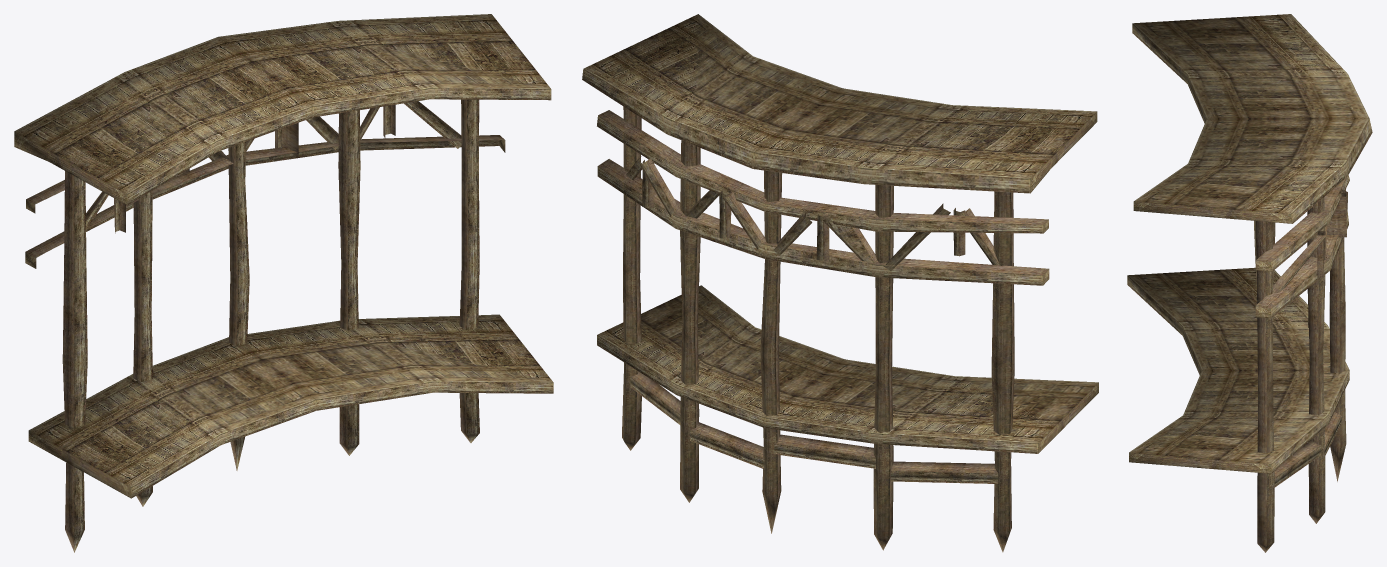
Rendered from S_Build_West046_A.FBX.
3 views of the same model, side by side, from view 1: azimuth 30°, elevation 25°; view 2: azimuth 150°, elevation 25°; view 3: azimuth 270°, elevation 25° (orthographic). The views are drawn at different scales.
Visible parts, largest first — view 1: S_Build_West046_A; view 2: S_Build_West046_A; view 3: S_Build_West046_A.
Part boxes in pixels (x1,y1,x2,y2): S_Build_West046_A: (14,14,553,552); S_Build_West046_A: (582,14,1098,552); S_Build_West046_A: (1127,14,1372,552).
Size of the model in its own units: 957 by 807 by 492.
